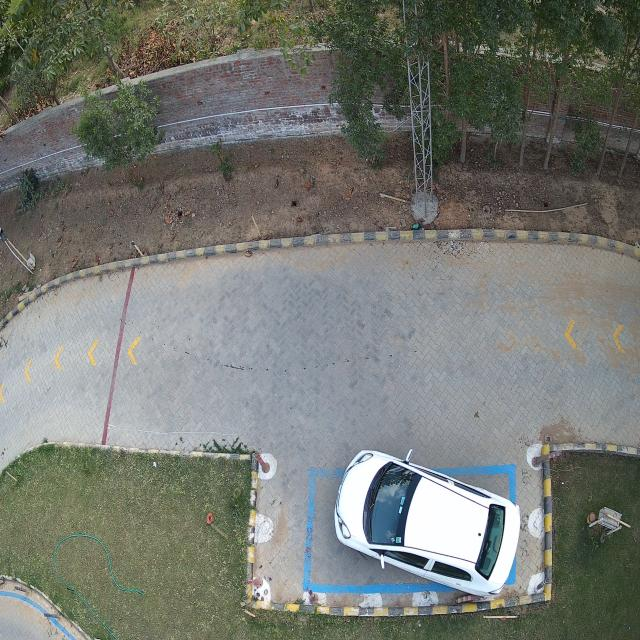car: (334, 450, 520, 598)
